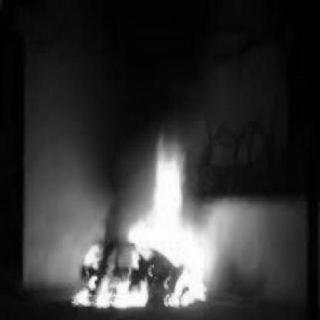Fire: (55, 119, 242, 311)
